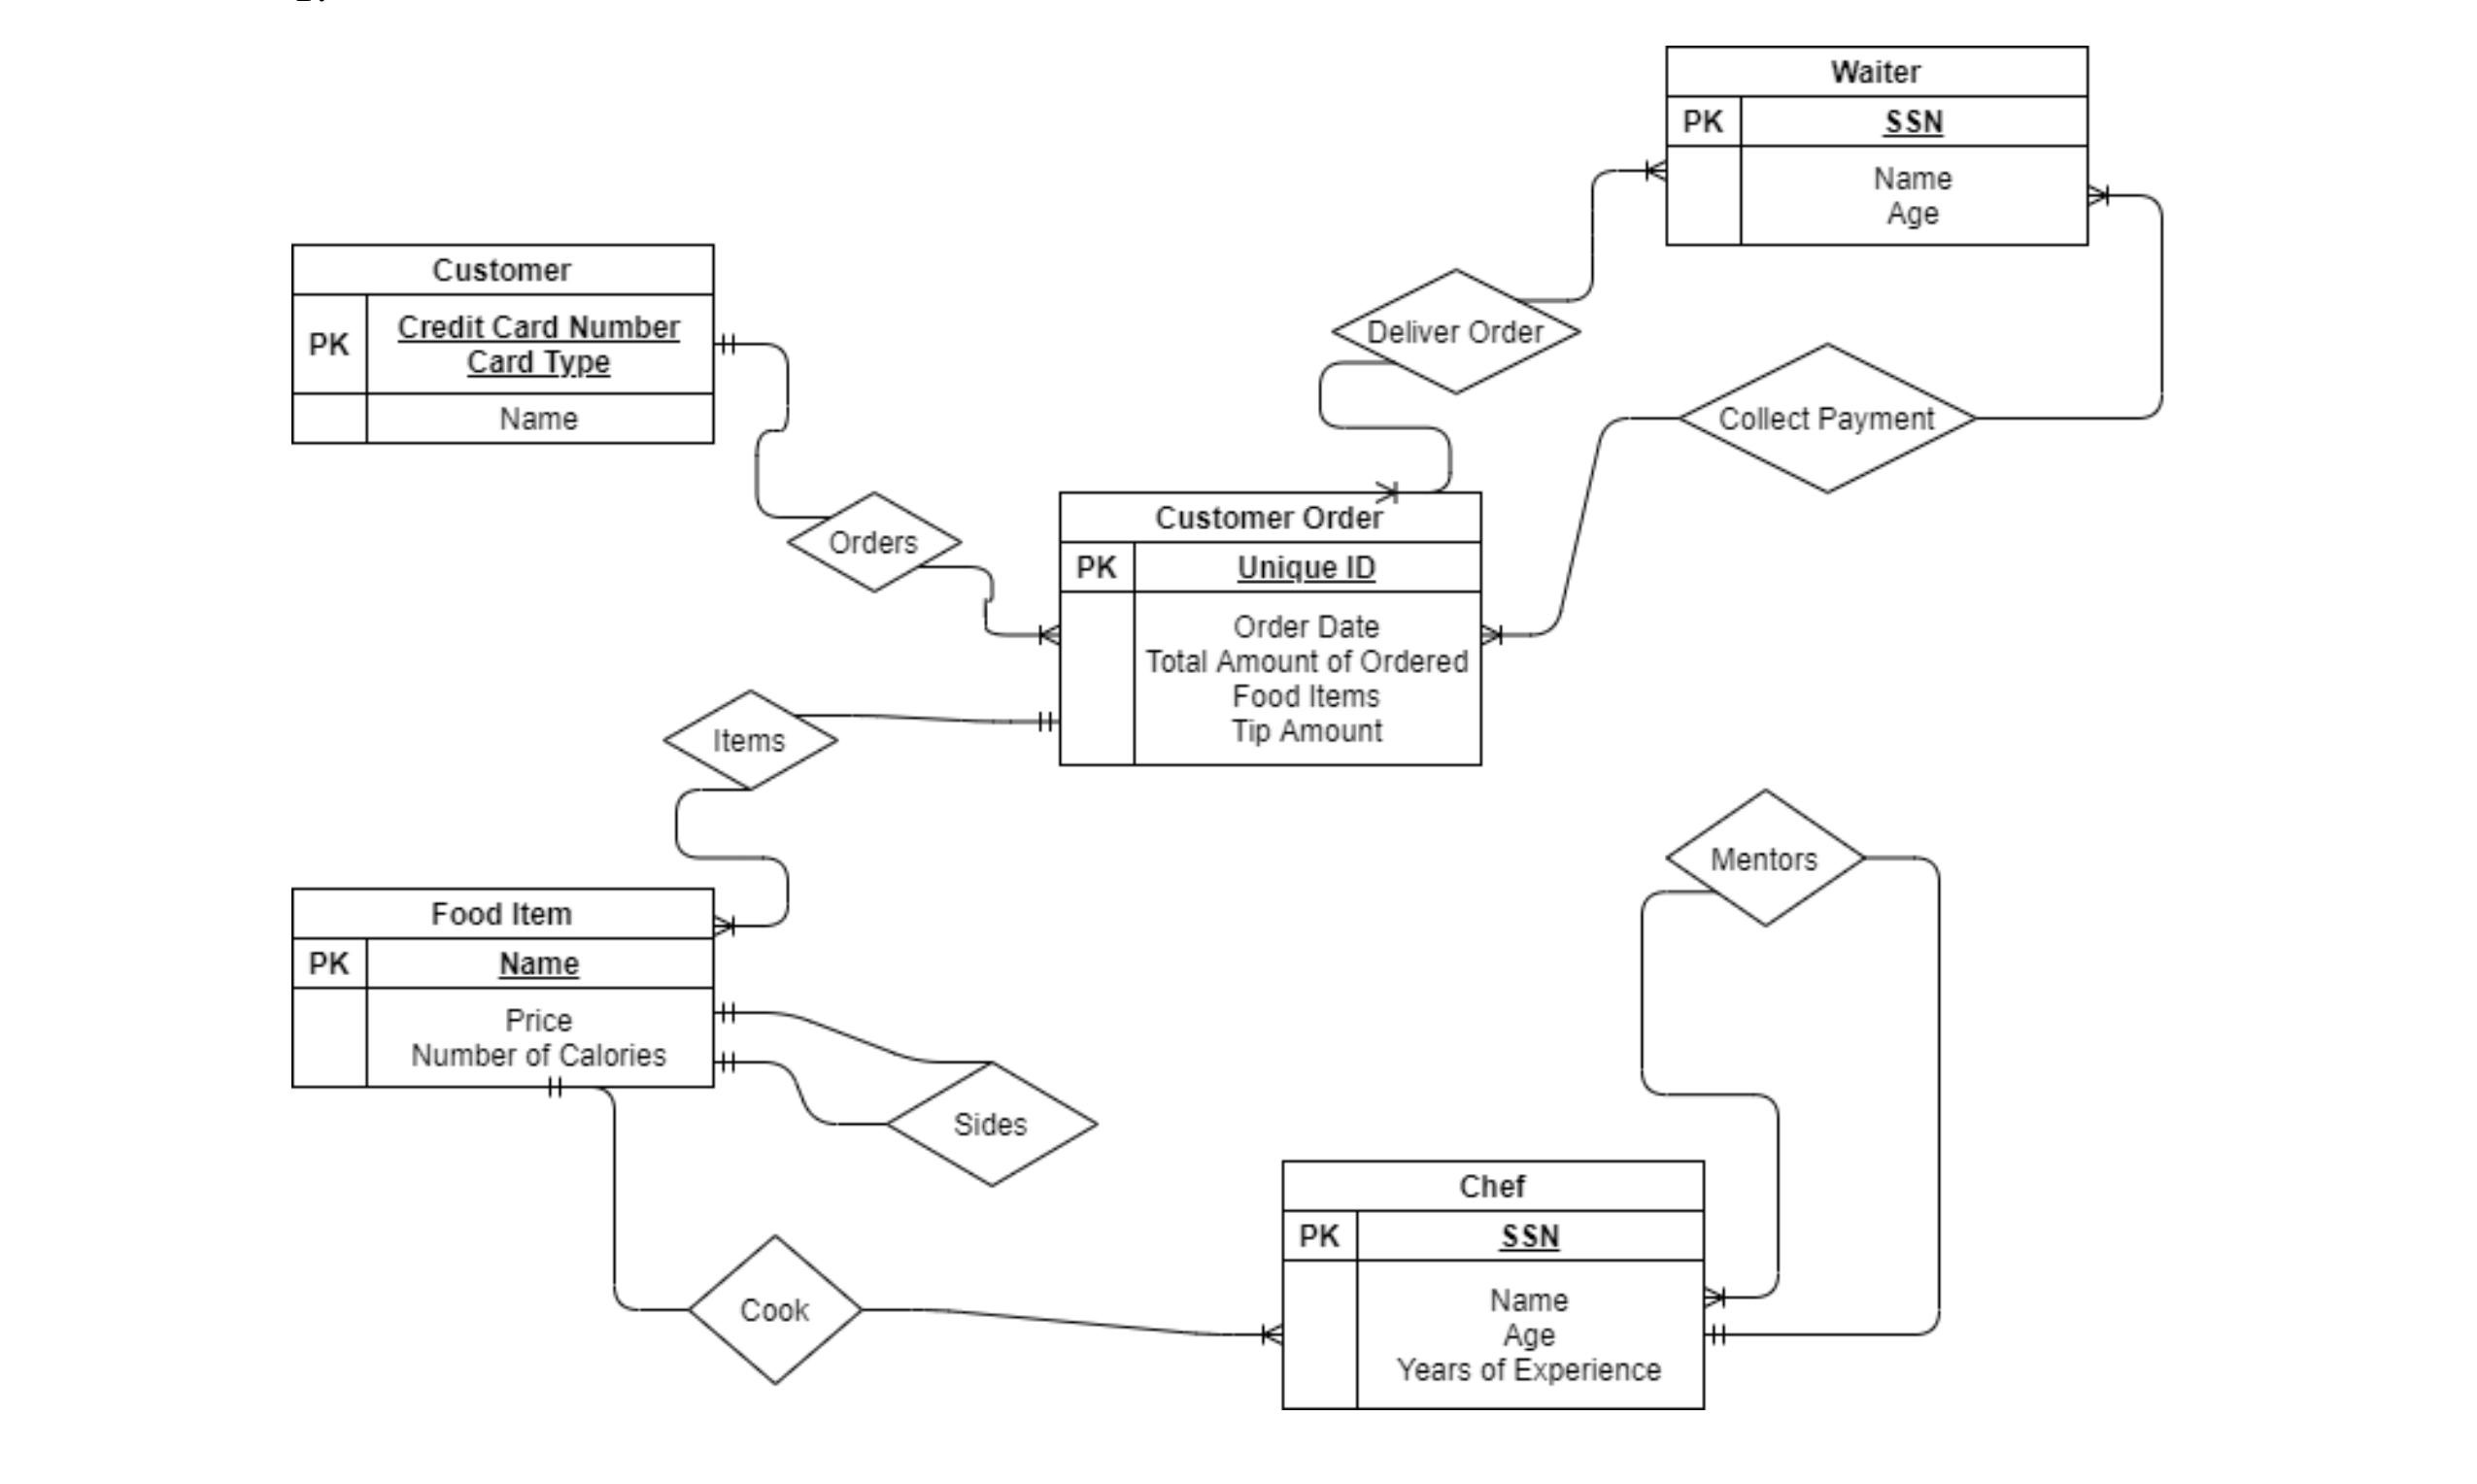Entity: (1057, 489, 1486, 770), (1279, 1157, 1705, 1412), (288, 238, 717, 450), (1663, 42, 2094, 249), (288, 883, 716, 1090)
Relationship: (1680, 344, 1975, 493), (1329, 265, 1581, 396), (1664, 788, 1862, 926), (887, 1064, 1099, 1187), (689, 1237, 860, 1387), (788, 491, 963, 594), (663, 687, 836, 790)
